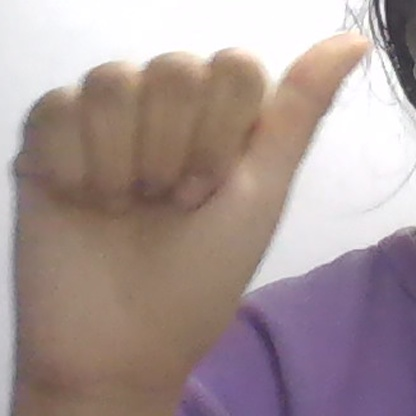A: (14, 33, 370, 379)
